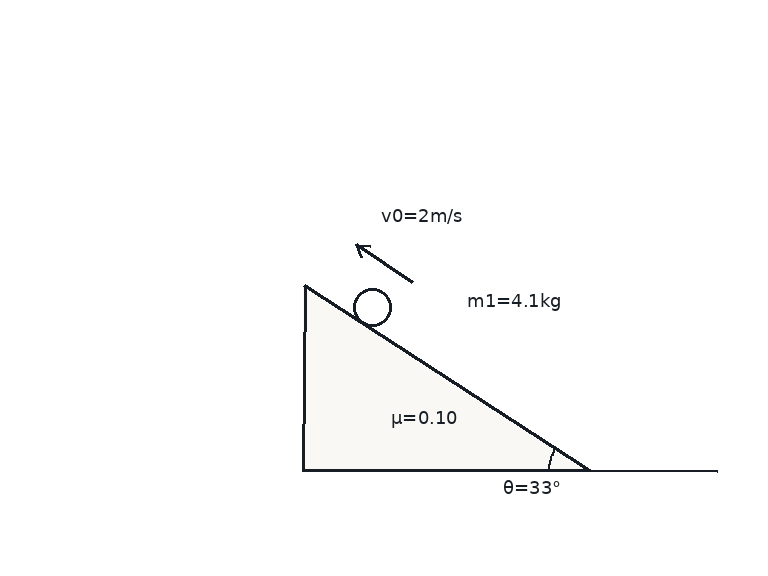ball: (351, 286, 393, 328)
ramp: (302, 283, 591, 472)
